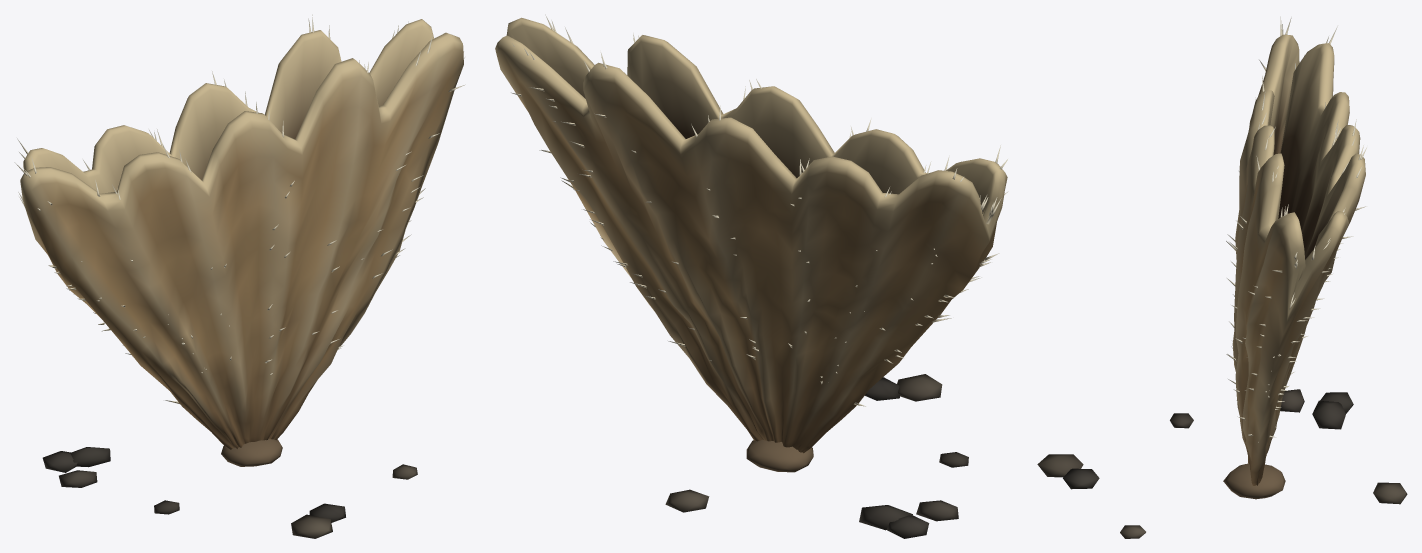
Rendered from HazeliaPalmata.fbx.
The picture shows the model from 3 angles, left to right: view 1: azimuth 30°, elevation 25°; view 2: azimuth 150°, elevation 25°; view 3: azimuth 270°, elevation 25°; orthographic projection. The views are drawn at different scales.
Visible parts, largest first — view 1: HazeliaPalmata; view 2: HazeliaPalmata; view 3: HazeliaPalmata.
Part boxes in pixels (<box>): HazeliaPalmata: <box>14,14,465,538</box>; HazeliaPalmata: <box>495,14,1008,538</box>; HazeliaPalmata: <box>1037,16,1407,538</box>.
Size of the model in its own units: 1.45 by 1.17 by 0.9647.
